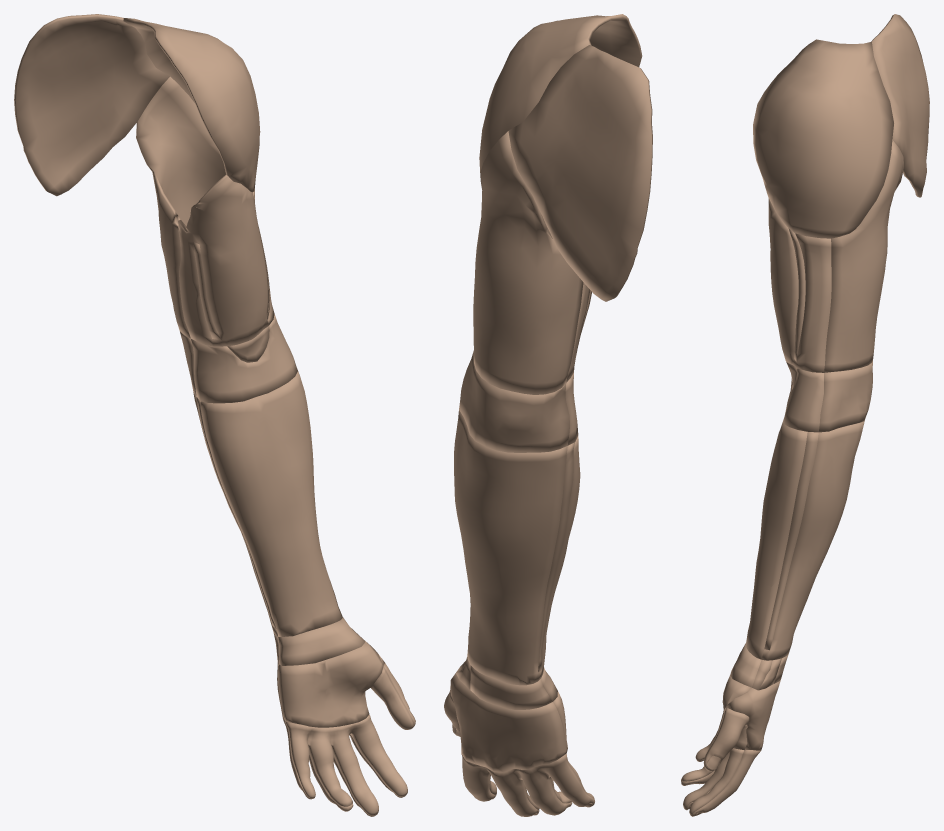
Rendered from detail-integumentary-left-upper-limb.glb.
3 views of the same model, side by side, from view 1: azimuth 30°, elevation 25°; view 2: azimuth 150°, elevation 25°; view 3: azimuth 270°, elevation 25° (orthographic). The views are drawn at different scales.
Visible parts, largest first — view 1: za-f324264a639af52a, za-b0936d690e4fcc26, za-86dfc7b59ac02957, za-28454531410f7cbf, za-45e91fff61430718, za-26630004b03a9de1, za-1febb4abe04cc1da, za-41655f215e93c6f9, za-1ce1f269edc6670a, za-589e1851b3a5606e, za-a421fa0be0250a4d, za-ed9b5c96b18efba0; view 2: za-b0936d690e4fcc26, za-666de7db6e1d64ec, za-45e91fff61430718, za-28454531410f7cbf, za-4074b9d3915bbe63, za-acdad7f452e417dd, za-589e1851b3a5606e, za-13d878b2bd868fea, za-7224334ee52b011d, za-f324264a639af52a, za-86dfc7b59ac02957, za-41655f215e93c6f9 (+1 smaller); view 3: za-28454531410f7cbf, za-45e91fff61430718, za-666de7db6e1d64ec, za-86dfc7b59ac02957, za-f324264a639af52a, za-b0936d690e4fcc26, za-acdad7f452e417dd, za-589e1851b3a5606e, za-4c2832e92747ffe5, za-41655f215e93c6f9, za-26630004b03a9de1, za-4074b9d3915bbe63 (+4 smaller).
Part boxes in pixels (x1,y1,x2,y2): za-f324264a639af52a: (200, 370, 342, 636); za-b0936d690e4fcc26: (14, 14, 169, 196); za-86dfc7b59ac02957: (178, 174, 274, 346); za-28454531410f7cbf: (123, 18, 260, 192); za-45e91fff61430718: (136, 76, 225, 338); za-26630004b03a9de1: (285, 667, 413, 815); za-1febb4abe04cc1da: (278, 641, 383, 727); za-41655f215e93c6f9: (191, 314, 297, 403); za-1ce1f269edc6670a: (278, 617, 364, 665); za-589e1851b3a5606e: (283, 663, 415, 816); za-a421fa0be0250a4d: (227, 326, 269, 362); za-ed9b5c96b18efba0: (193, 242, 221, 340); za-b0936d690e4fcc26: (508, 45, 652, 301); za-666de7db6e1d64ec: (454, 410, 567, 685); za-45e91fff61430718: (473, 131, 583, 394); za-28454531410f7cbf: (479, 14, 642, 172); za-4074b9d3915bbe63: (450, 672, 566, 772); za-acdad7f452e417dd: (459, 350, 569, 452); za-589e1851b3a5606e: (444, 687, 594, 816); za-13d878b2bd868fea: (456, 659, 552, 709); za-7224334ee52b011d: (538, 442, 574, 672); za-f324264a639af52a: (541, 436, 580, 677); za-86dfc7b59ac02957: (541, 215, 591, 382); za-41655f215e93c6f9: (565, 373, 578, 445); za-28454531410f7cbf: (753, 39, 893, 238); za-45e91fff61430718: (824, 140, 903, 372); za-666de7db6e1d64ec: (761, 420, 864, 660); za-86dfc7b59ac02957: (768, 198, 831, 372); za-f324264a639af52a: (746, 422, 807, 659); za-b0936d690e4fcc26: (871, 14, 929, 197); za-acdad7f452e417dd: (819, 360, 872, 432); za-589e1851b3a5606e: (681, 707, 760, 816); za-4c2832e92747ffe5: (764, 432, 818, 650); za-41655f215e93c6f9: (783, 368, 823, 432); za-26630004b03a9de1: (681, 708, 744, 814); za-4074b9d3915bbe63: (726, 680, 780, 750).
Bounding box in the file's own units: 0.2853 × 0.7376 × 0.2359.
